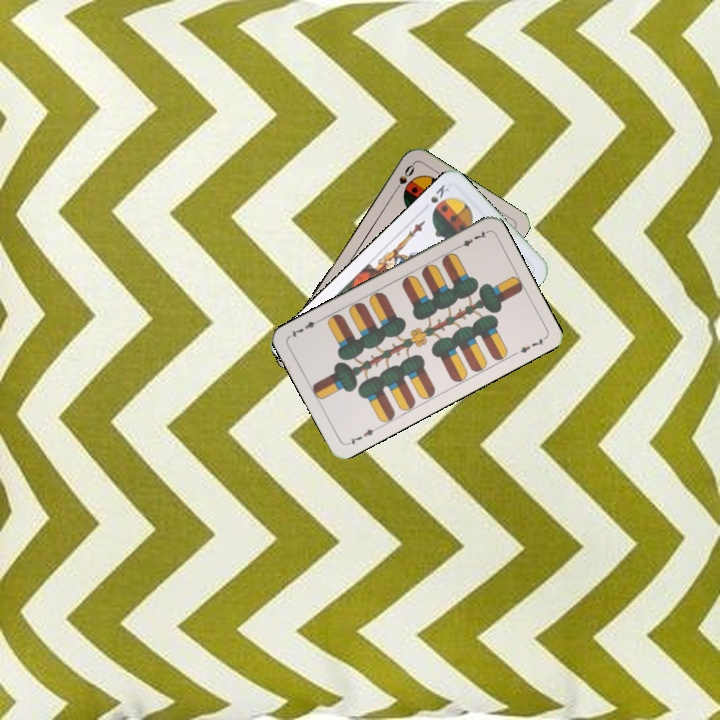E7: (452, 226, 490, 251), (344, 423, 381, 448)
SK: (427, 180, 452, 206)
SO: (389, 160, 417, 196)
